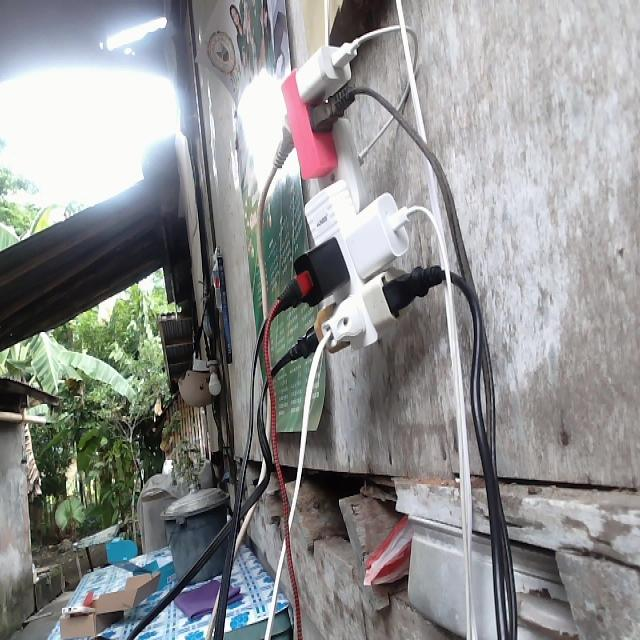-: (265, 32, 450, 361)
